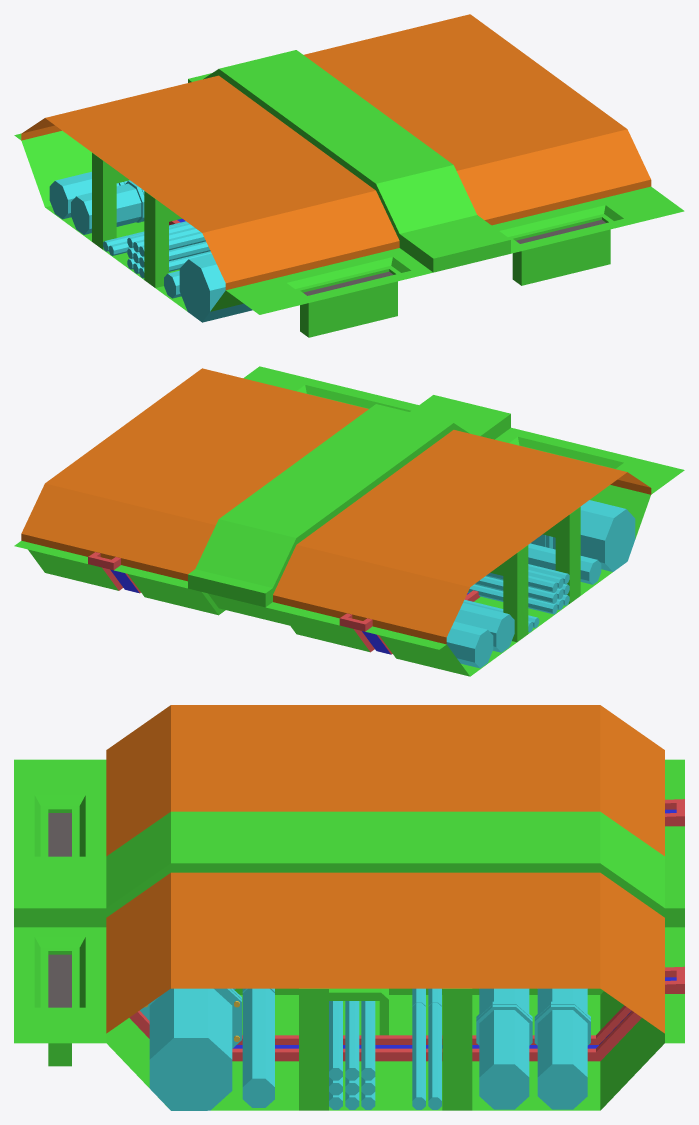
Rendered from Interior_Deco_03_B.fbx.
3 renders of one model, top to bottom at view 1: azimuth 30°, elevation 25°; view 2: azimuth 150°, elevation 25°; view 3: azimuth 270°, elevation 25°, orthographic. The views are drawn at different scales.
Parts seen in each view (by area): view 1: Interior_Deco_03_B; view 2: Interior_Deco_03_B; view 3: Interior_Deco_03_B.
Part boxes in pixels (x1,y1,x2,y2): Interior_Deco_03_B: (14,14,684,337); Interior_Deco_03_B: (14,366,684,676); Interior_Deco_03_B: (14,705,684,1110).
Size of the model in its own units: 457 by 98.92 by 457.
